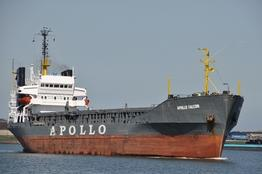Cargoship: (3, 28, 246, 156)
